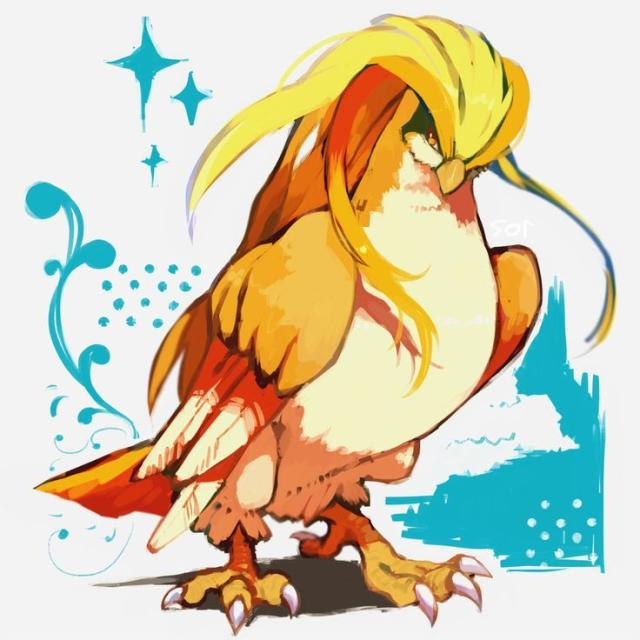Pidgeot: (169, 20, 539, 598)
